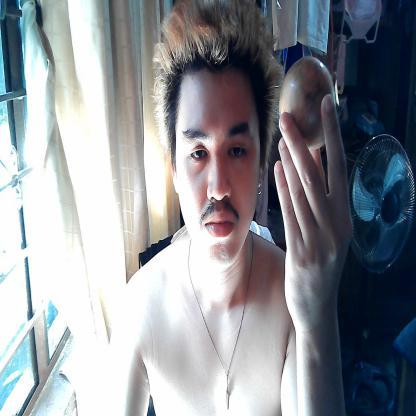onion: (276, 50, 342, 150)
